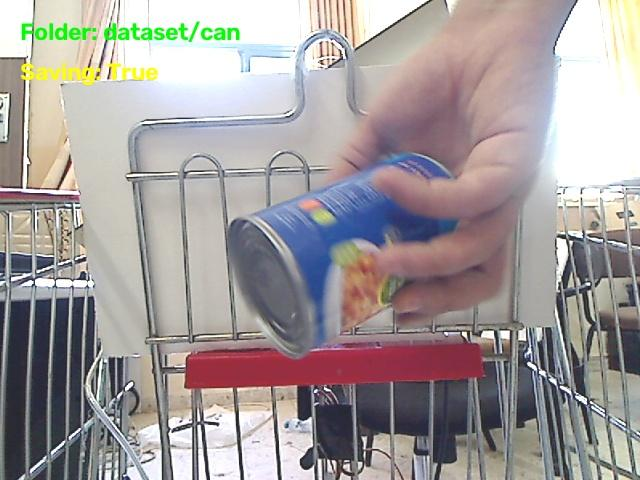can: (228, 153, 455, 357)
